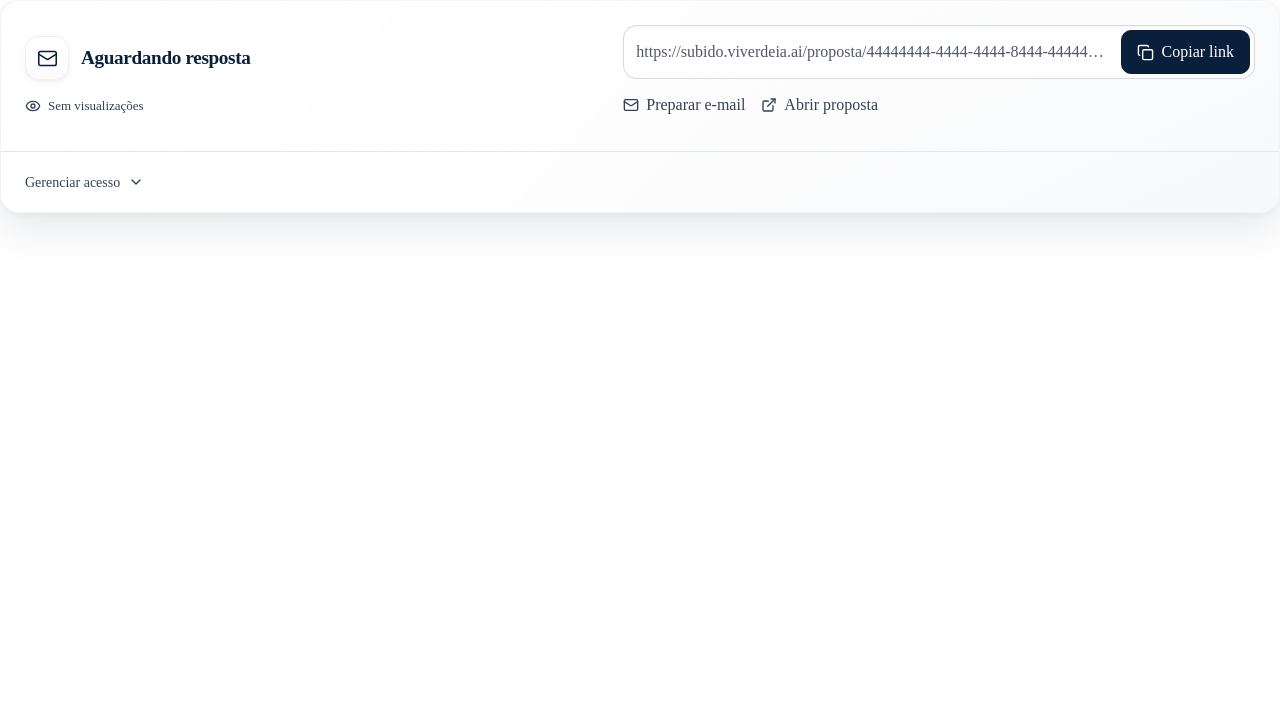
CompartilharProposta › mantém o diálogo bloqueado durante o envio e permite repetir depois de uma falha
Step 1. Click the heading "Gerenciar acesso" → (85, 182), box [25,174,144,190]
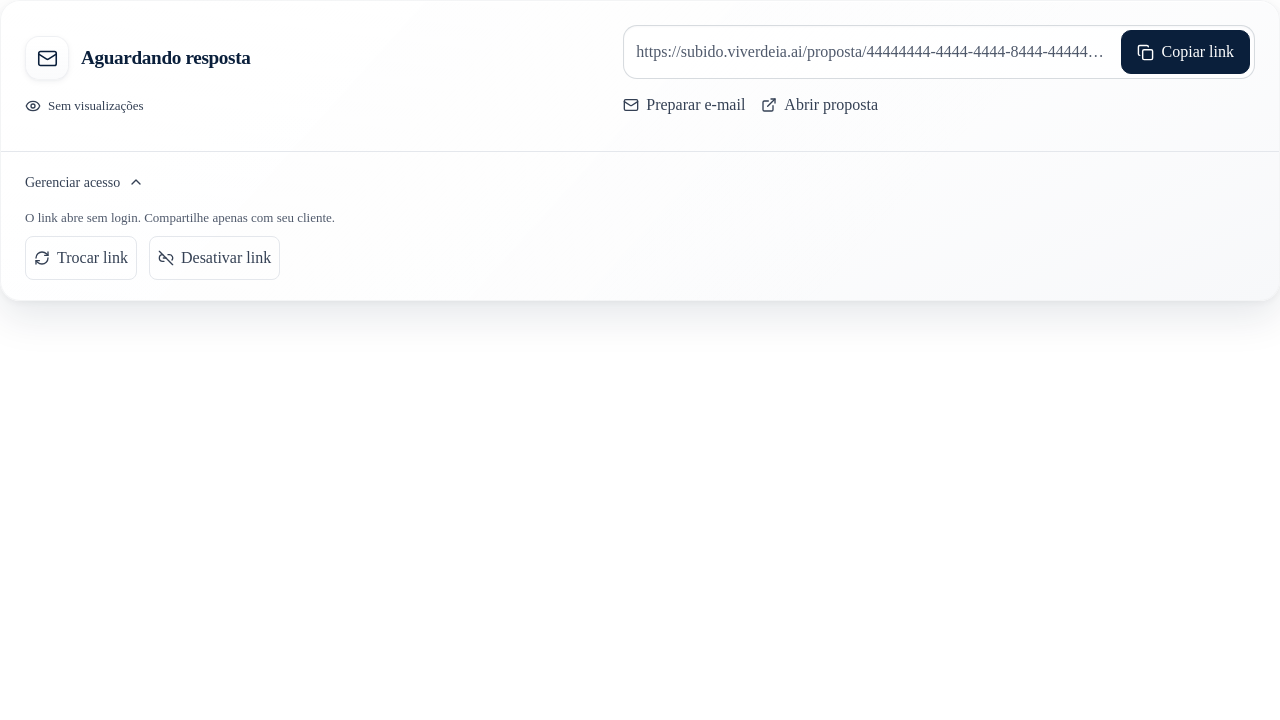
Step 2. Click the button "Desativar link" → (215, 258), box [149,236,280,280]
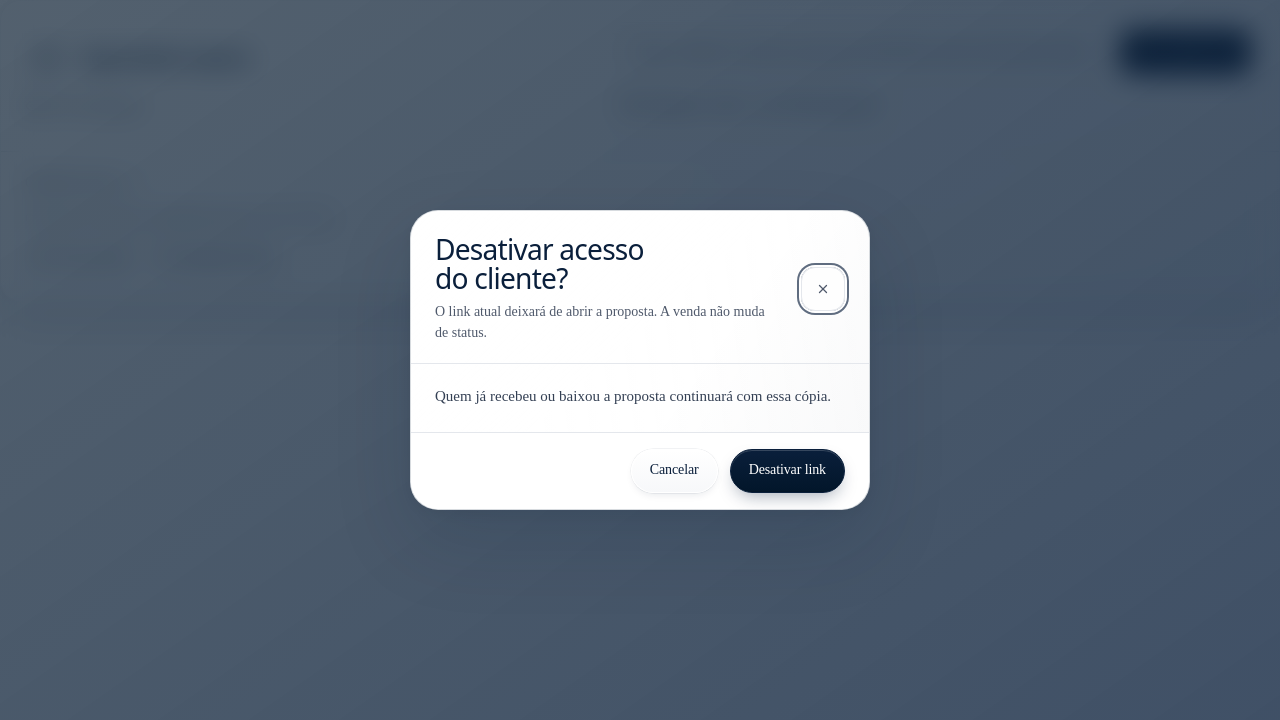
Step 3. Click the button "Desativar link" → (787, 471), box [730,449,845,493]
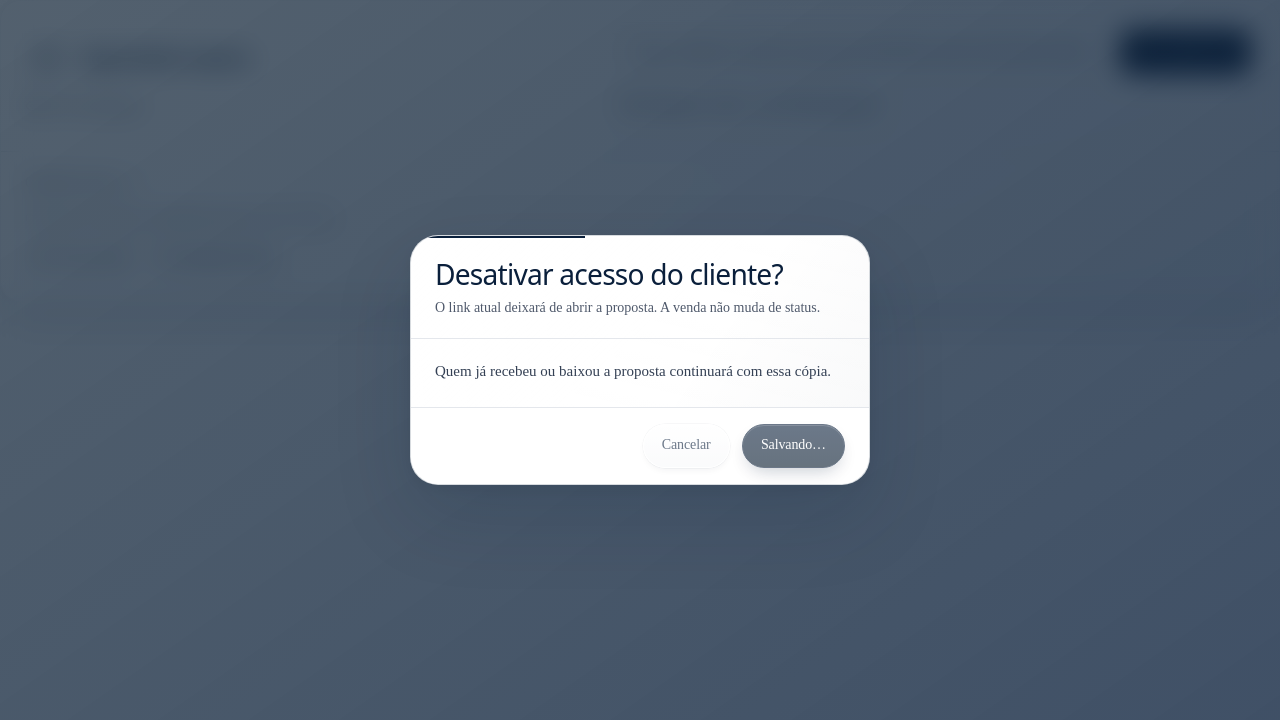
Check: the button "Salvando…" is disabled, box [742,424,845,468]
Check: the button "Cancelar" is disabled, box [643,424,730,468]
Step 4. Press Escape
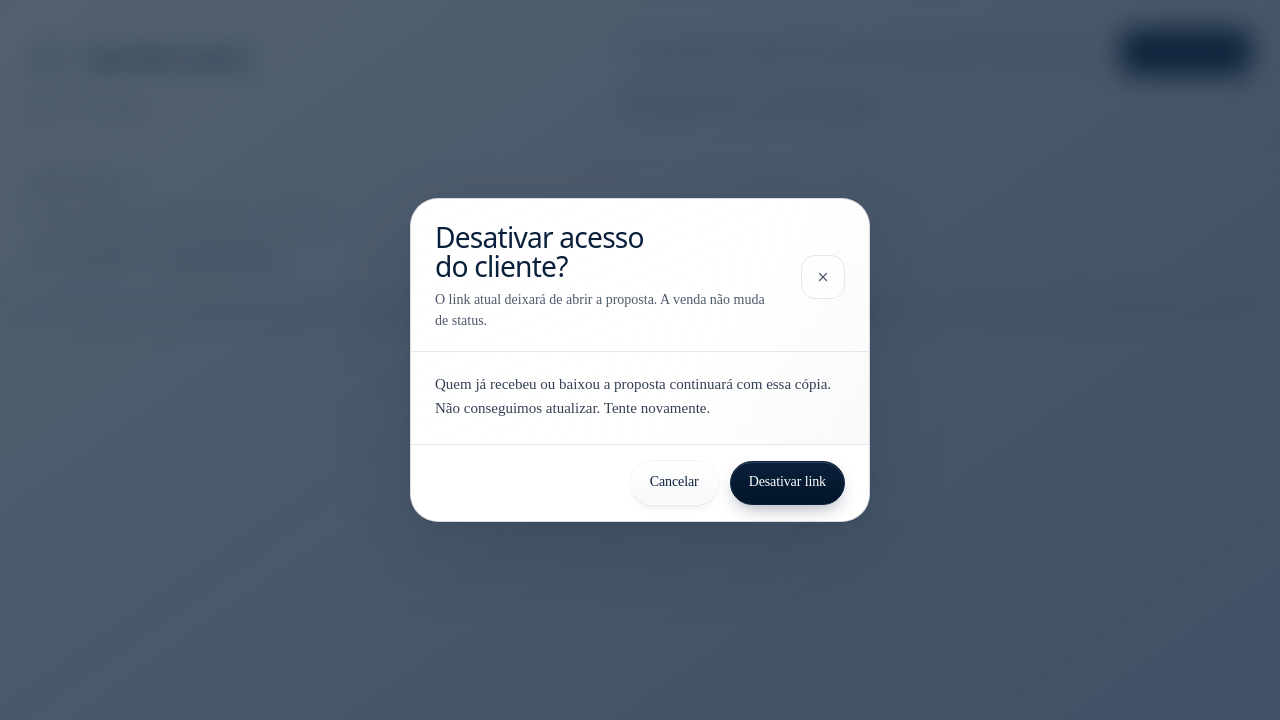
Check: the dialog is shown, box [410,198,870,522]
Check: the message shows "Tente novamente", box [435,400,710,416]
Check: the button "Desativar link" is enabled, box [730,461,845,505]
